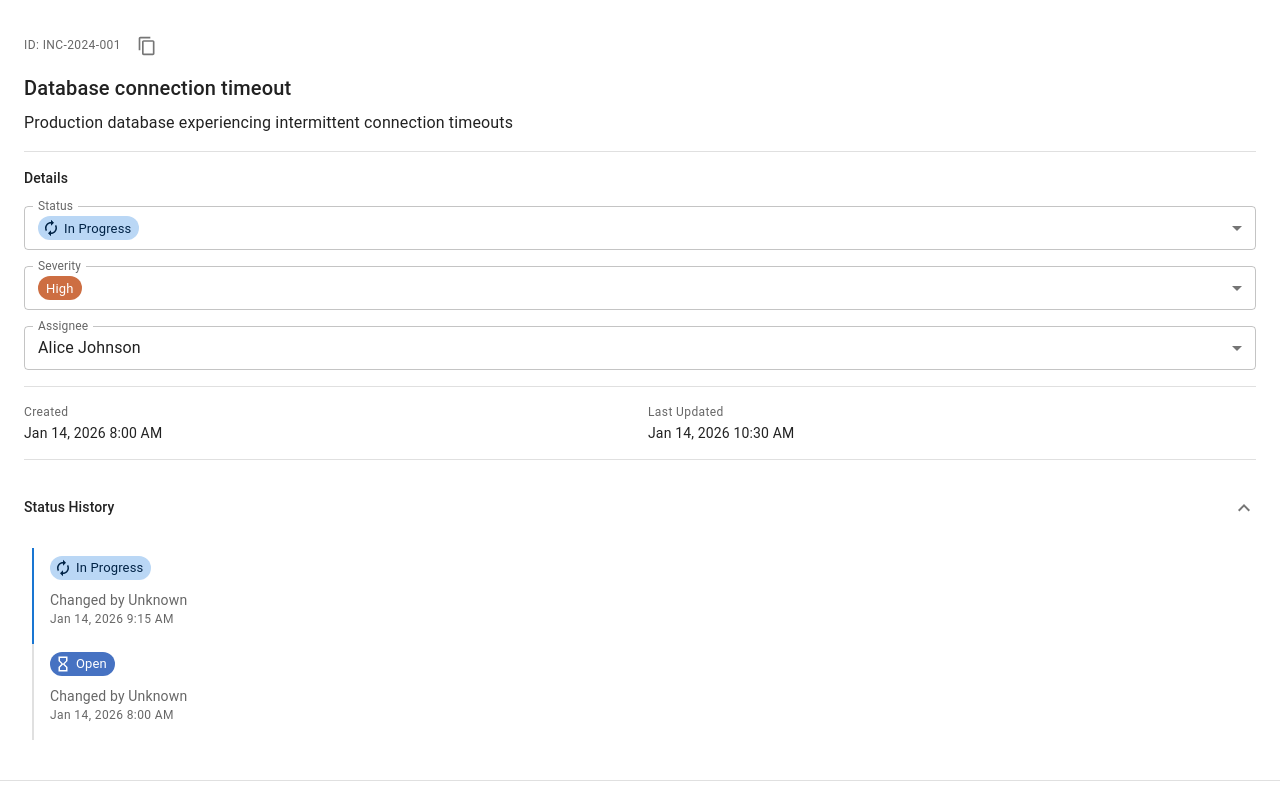
it: Detail Panel UX Integration Tests › User Story 1: Copy Incident ID › copies incident ID to clipboard when copy button is clicked
The image size is (1280, 797).
// Find and click the copy button
Click the button named "copy incident id" at point(147, 46), box x1=125 y1=24 x2=169 y2=68
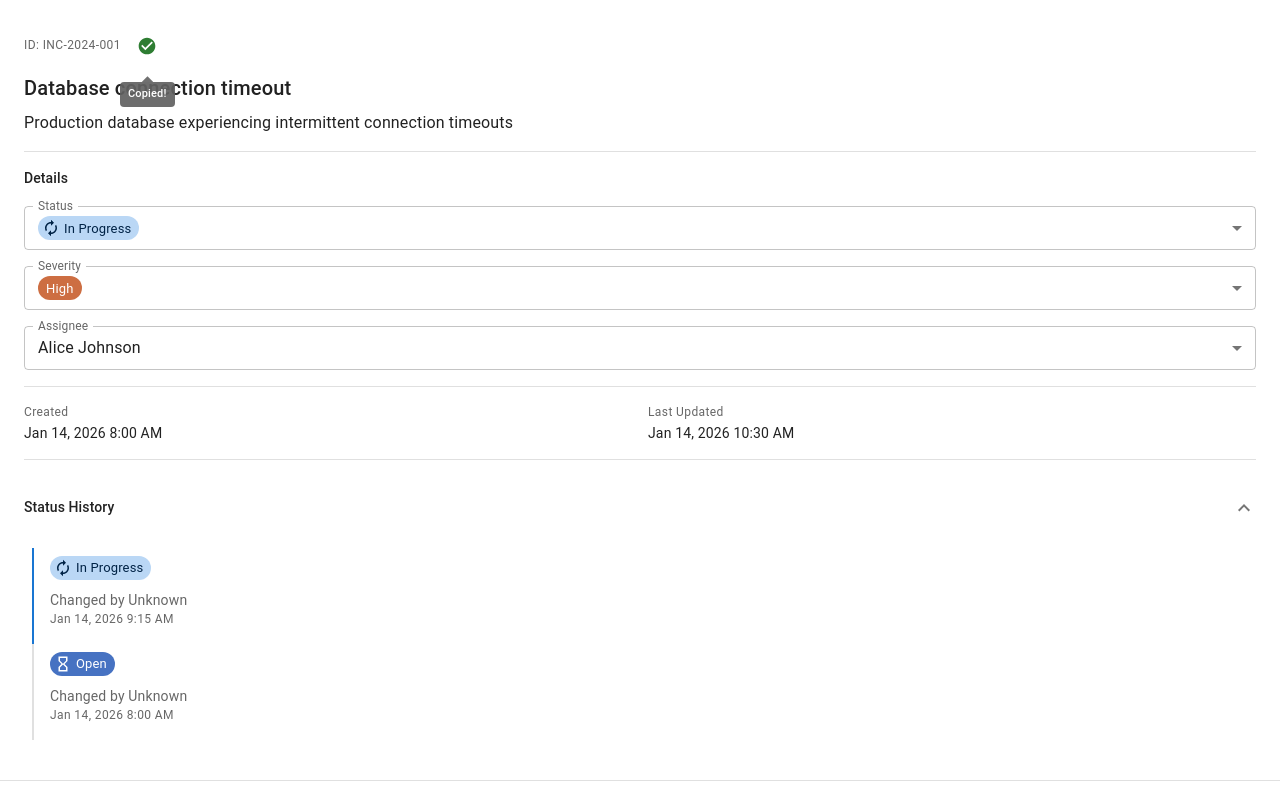
Now the button named "Copied!" is shown, box x1=125 y1=24 x2=169 y2=68
